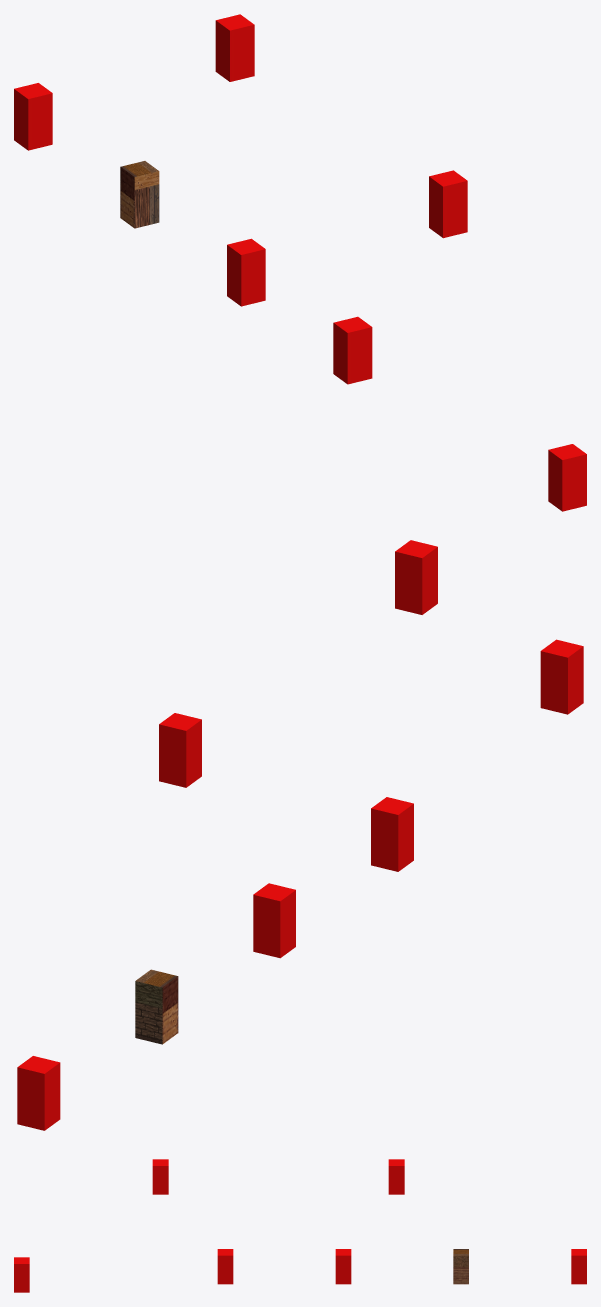
The model's file is M15_Enemies.fbx.
3 renders of one model, top to bottom at view 1: azimuth 30°, elevation 25°; view 2: azimuth 150°, elevation 25°; view 3: azimuth 270°, elevation 25°, orthographic. The views are drawn at different scales.
Visible parts, largest first — view 1: Enemy2, Enemy4, Enemy6, Enemy7, Enemy1, Enemy5, Enemy3; view 2: Enemy5, Enemy1, Enemy4, Enemy3, Enemy2, Enemy6, Enemy7; view 3: Enemy6, Enemy7, Enemy2, Enemy3, Enemy1, Enemy4, Enemy5.
Boxes of the visible parts, x1,y1,x2,y2 form: Enemy2: [333, 316, 372, 384]; Enemy4: [120, 161, 159, 228]; Enemy6: [215, 14, 254, 81]; Enemy7: [429, 170, 467, 238]; Enemy1: [548, 444, 586, 511]; Enemy5: [14, 83, 52, 150]; Enemy3: [227, 238, 265, 306]; Enemy5: [17, 1056, 60, 1130]; Enemy1: [540, 639, 583, 714]; Enemy4: [135, 969, 178, 1044]; Enemy3: [253, 883, 295, 958]; Enemy2: [371, 797, 413, 871]; Enemy6: [159, 713, 201, 787]; Enemy7: [395, 540, 437, 614]; Enemy6: [388, 1159, 404, 1194]; Enemy7: [152, 1159, 168, 1194]; Enemy2: [217, 1249, 233, 1284]; Enemy3: [335, 1249, 351, 1284]; Enemy1: [14, 1257, 29, 1292]; Enemy4: [453, 1249, 468, 1284]; Enemy5: [571, 1249, 586, 1284].
Size of what is drawn, in the model's own units: 5 by 18 by 72.91.
